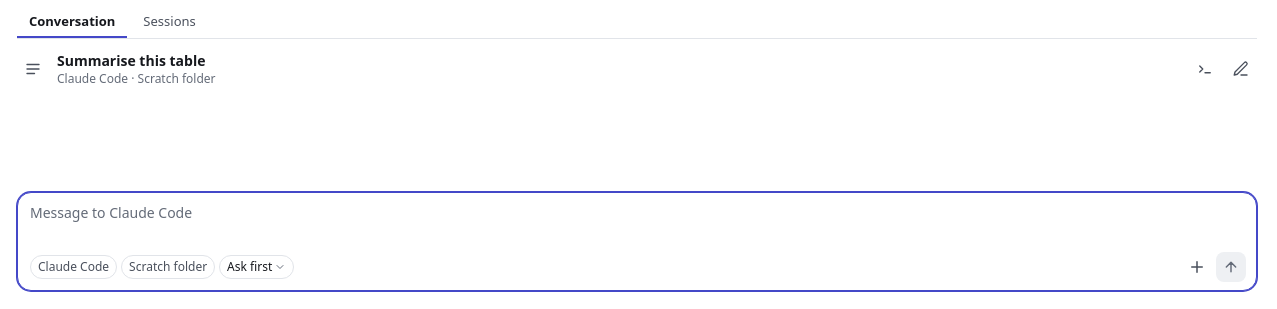
Test: 022 T633 how long a capture is waited for › a page capture is waited for longer than 30 s, given up at 90 s, and a late answer adds nothing
What coordinates should you click on to do the following:
click the button named "Add attachments"
I would click on:
 (1197, 267)
Its box is [1182,252,1212,282].
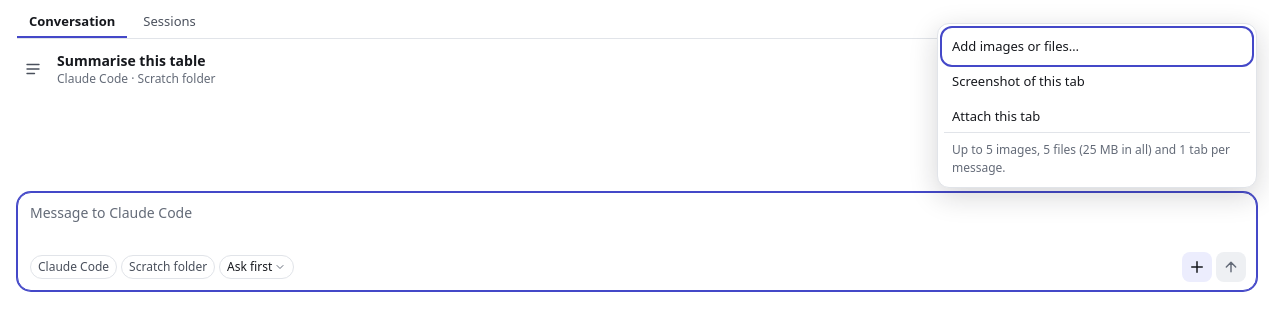
What coordinates should you click on to do the following:
click the menu item "Attach this tab"
I would click on:
 (996, 116)
Its box is [944,100,1250,132].
Wait 91000 ms
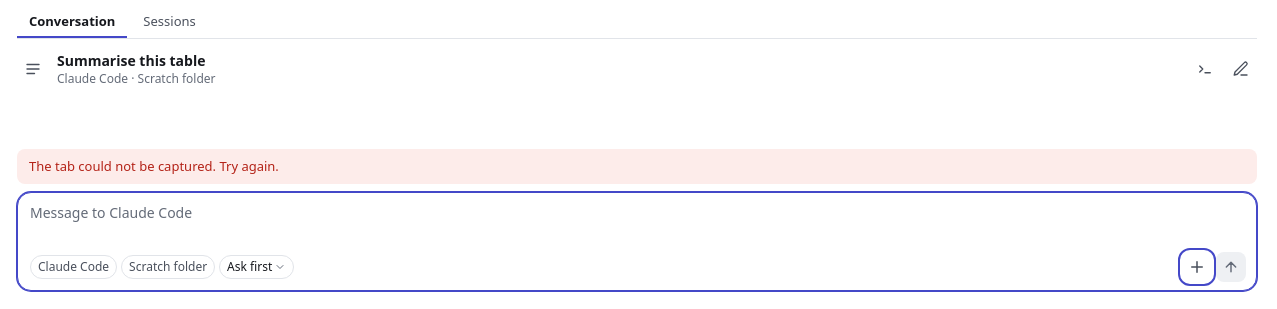
Result: the text "The tab could not be captured. Try again." is shown at [29,157,279,175]
